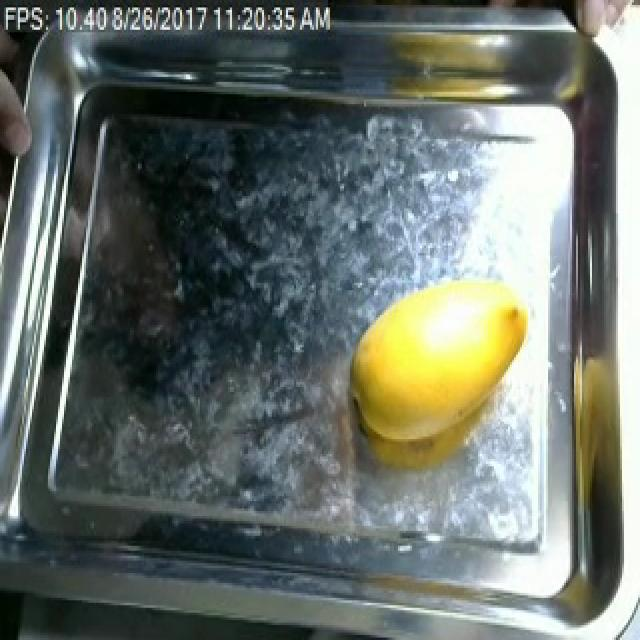fruit: (336, 270, 538, 464), (370, 2, 612, 116)
